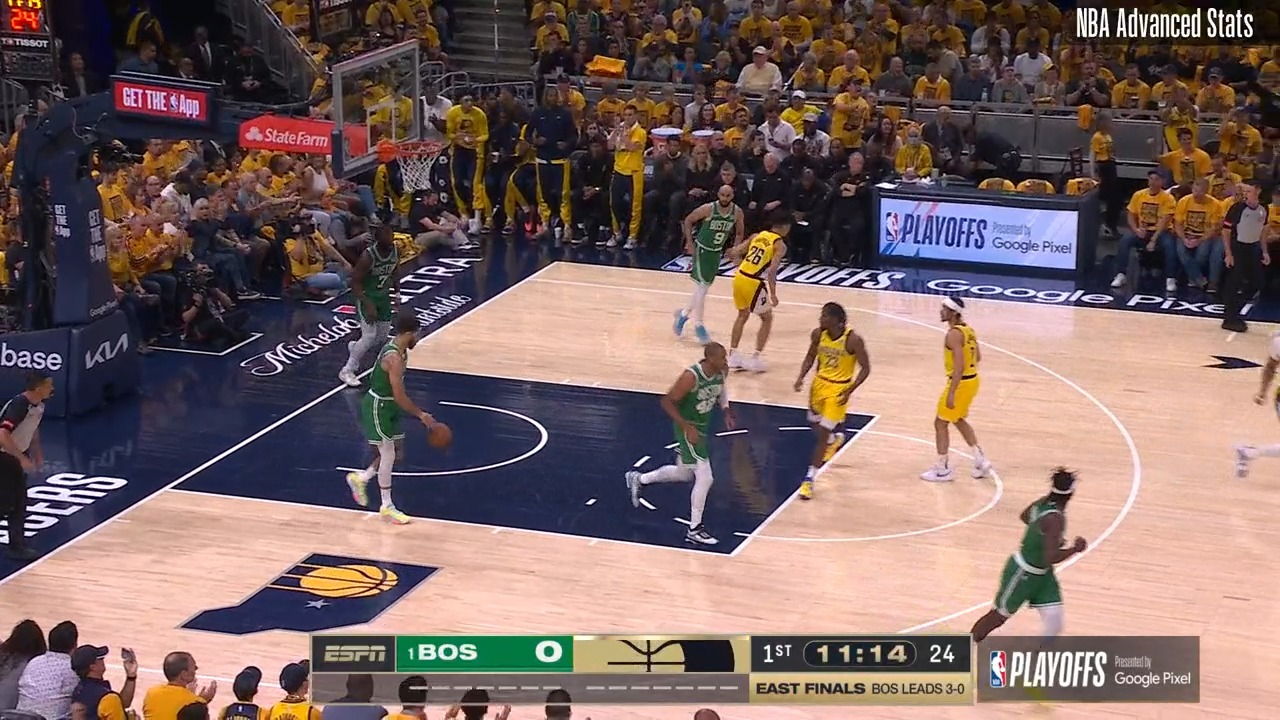basketball: (427, 421, 452, 450)
